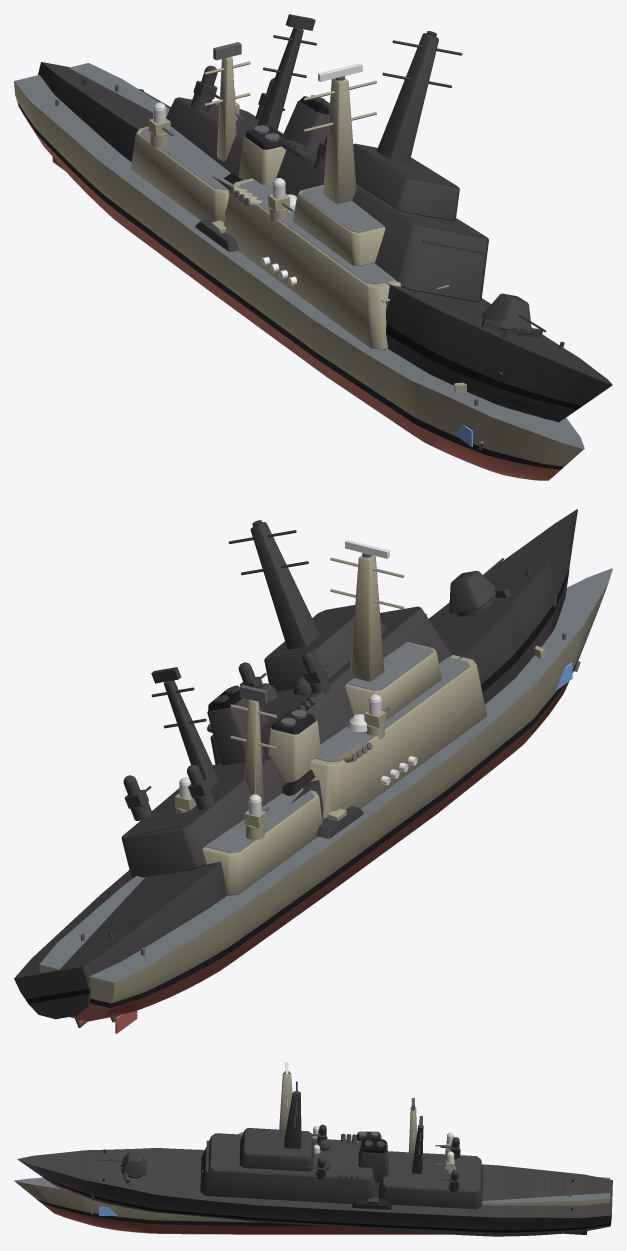
File: corvette__amnok_class.glb
3 views of the same model, one above another, from view 1: azimuth 30°, elevation 25°; view 2: azimuth 150°, elevation 25°; view 3: azimuth 270°, elevation 25° (orthographic). The views are drawn at different scales.
Visible parts, largest first — view 1: Hull_Mesh, Wreck; view 2: Hull_Mesh, Wreck; view 3: Wreck, Hull_Mesh.
Part boxes in pixels (box(x1,y1,x2,y2)): Hull_Mesh: box(14, 42, 584, 480); Wreck: box(38, 14, 612, 422); Hull_Mesh: box(39, 555, 612, 1033); Wreck: box(14, 509, 577, 1027); Wreck: box(17, 1081, 612, 1236); Hull_Mesh: box(14, 1072, 610, 1234).
Size of what is drawn, in the model's own units: 16.27 by 24.6 by 80.59.
